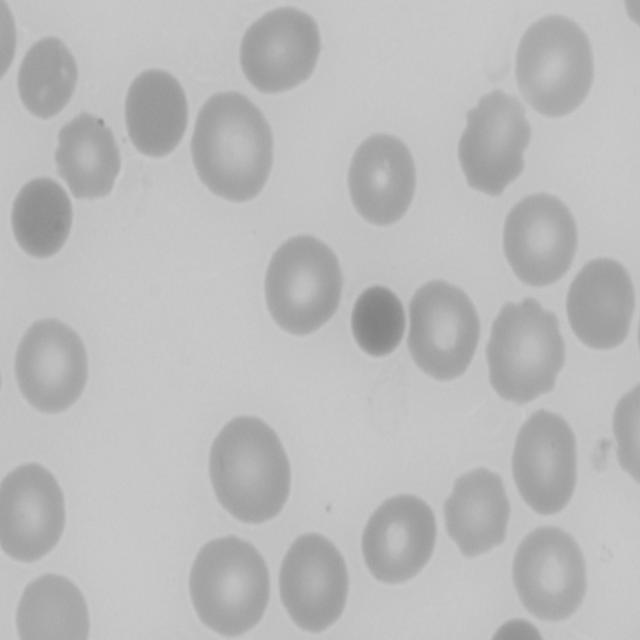RBC: (203, 408, 293, 528), (190, 92, 278, 208), (484, 294, 570, 411), (258, 230, 344, 338), (188, 537, 275, 640), (512, 12, 594, 120), (456, 89, 535, 201), (511, 516, 592, 623), (405, 278, 485, 386), (508, 408, 584, 520), (498, 192, 580, 294), (235, 2, 322, 98), (275, 526, 352, 634), (358, 488, 442, 586), (13, 312, 91, 416), (562, 256, 640, 358), (0, 460, 72, 566), (342, 132, 417, 228), (443, 462, 512, 562), (51, 110, 120, 204), (15, 568, 95, 640), (18, 32, 80, 124), (611, 375, 640, 496), (0, 0, 20, 90)
Spherocyte: (121, 69, 192, 164), (6, 174, 75, 266), (349, 281, 407, 365), (484, 619, 552, 640)
